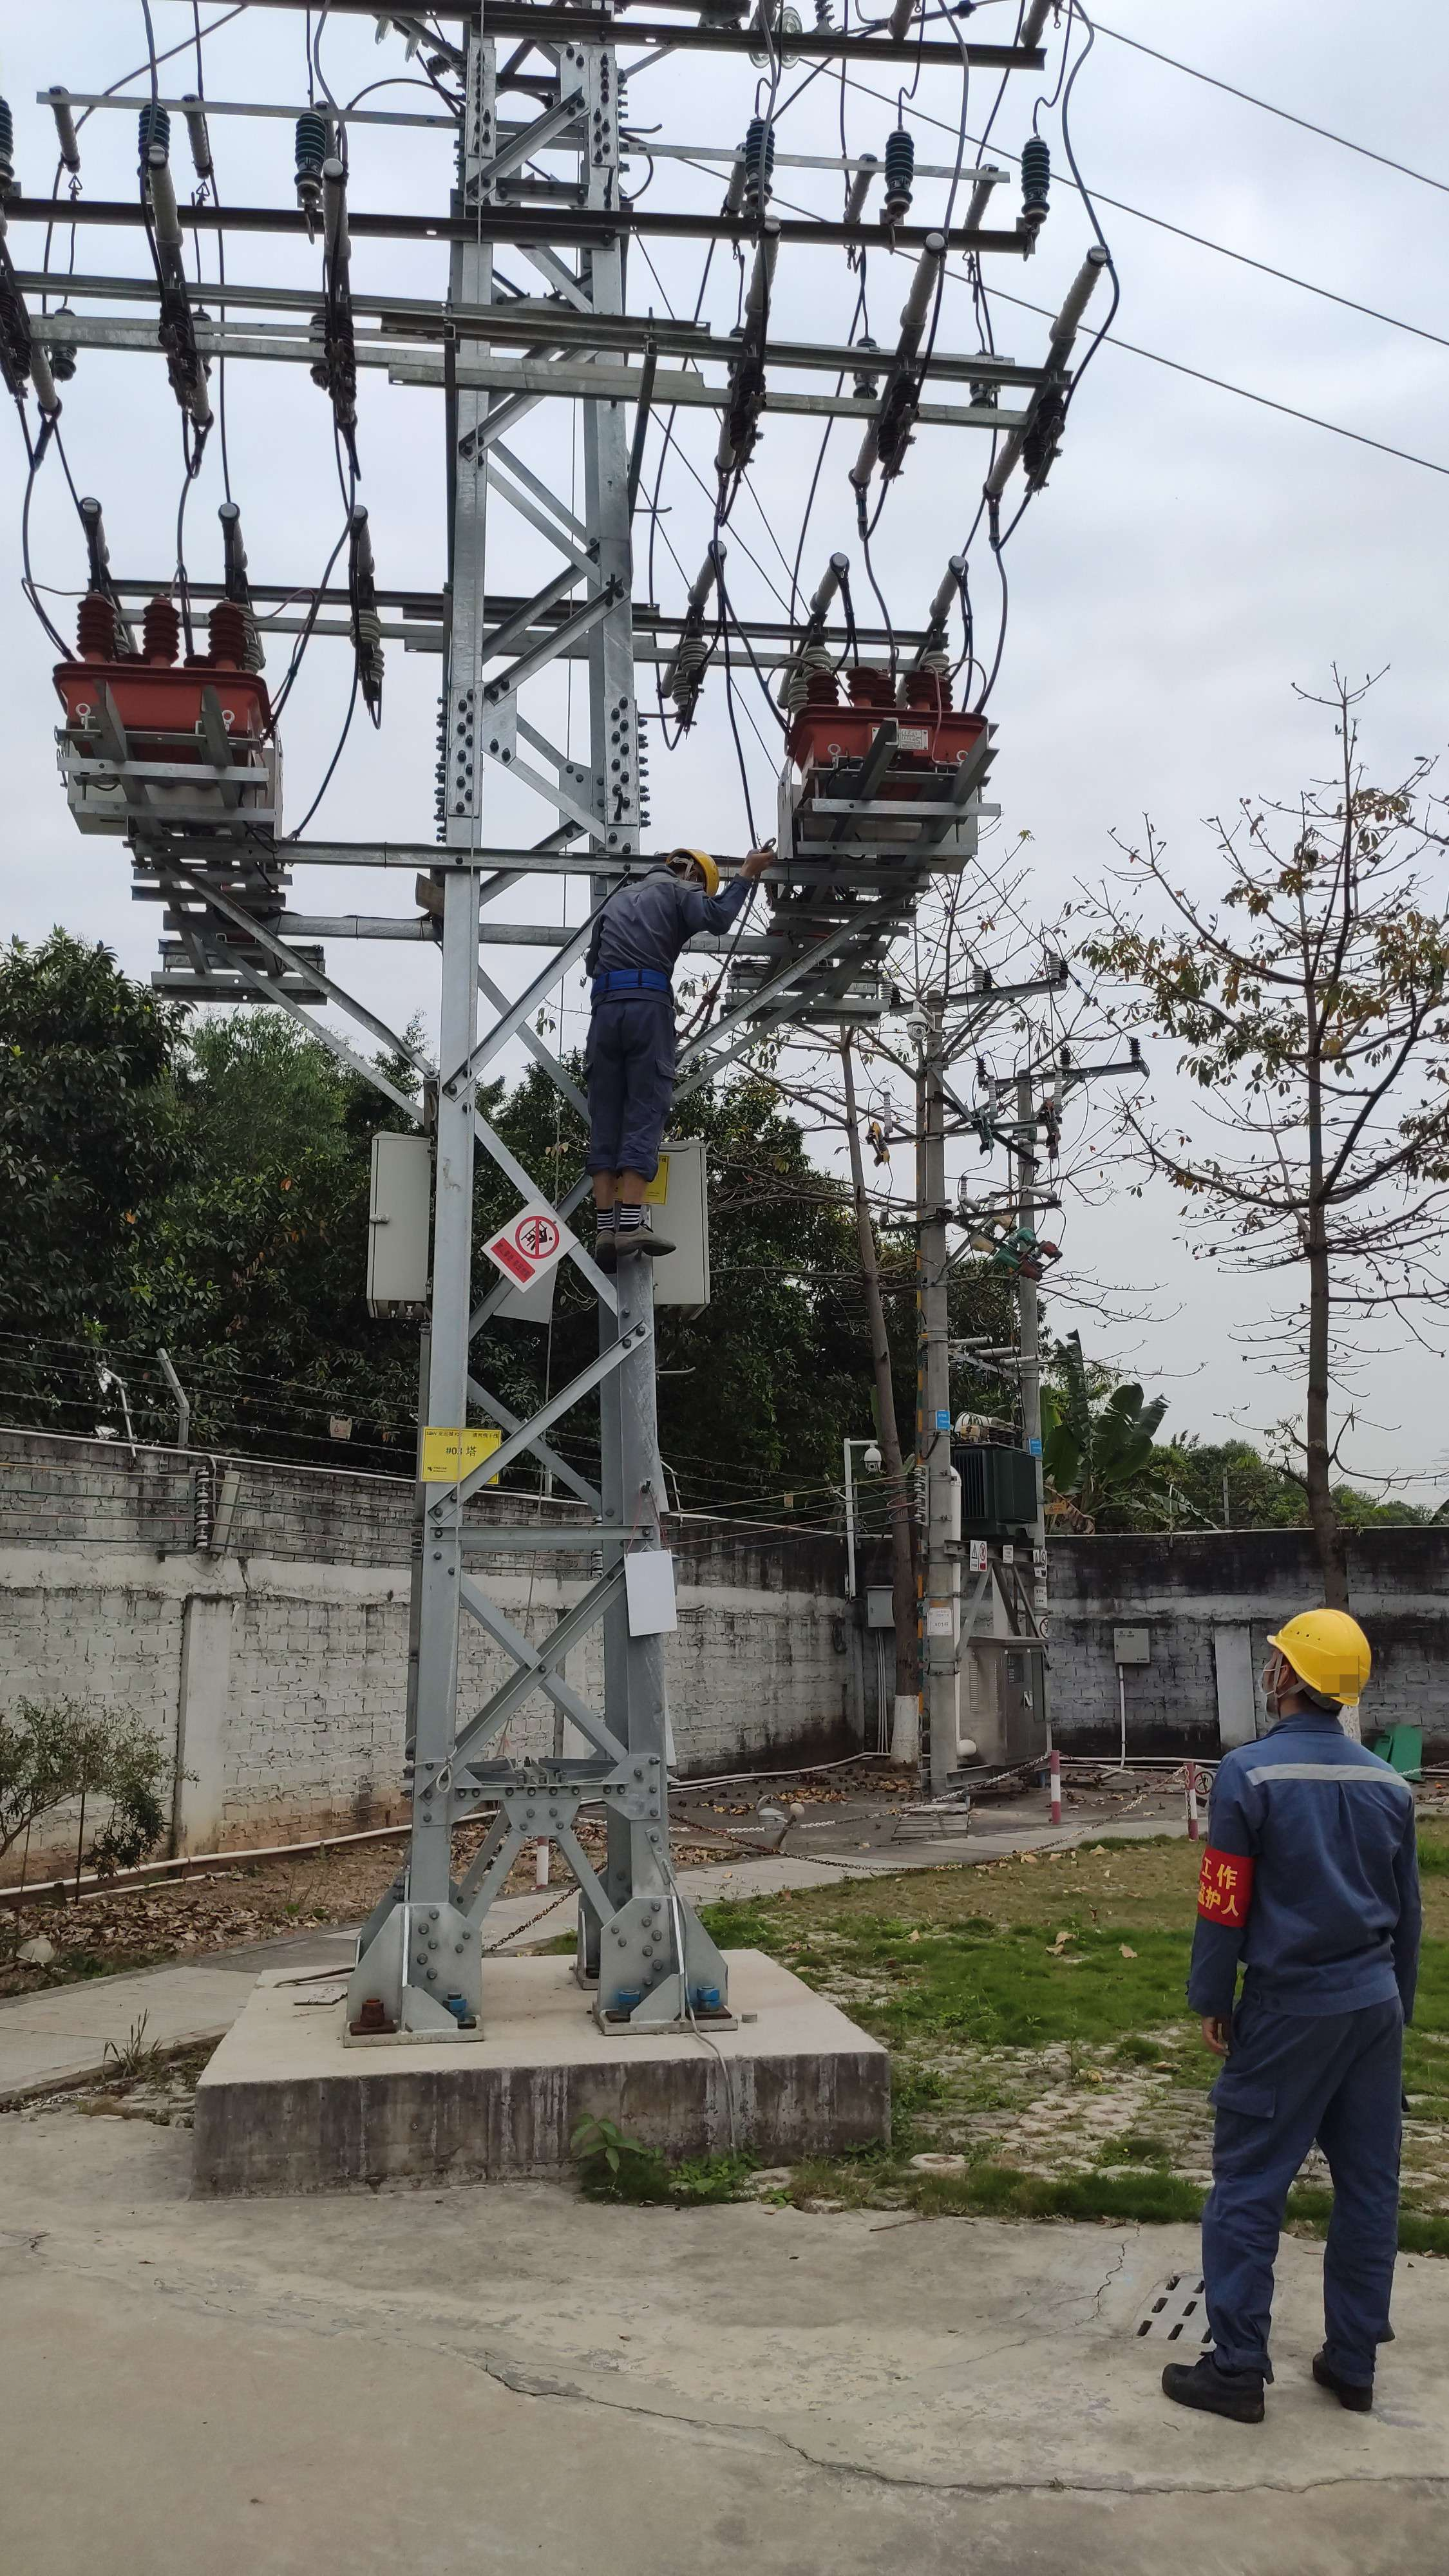downsuit: (1192, 2036, 1412, 2369), (591, 1017, 681, 1178)
upsuit: (1189, 1725, 1422, 2015), (591, 885, 711, 1001)
wrongbottom: (593, 1145, 656, 1223)
